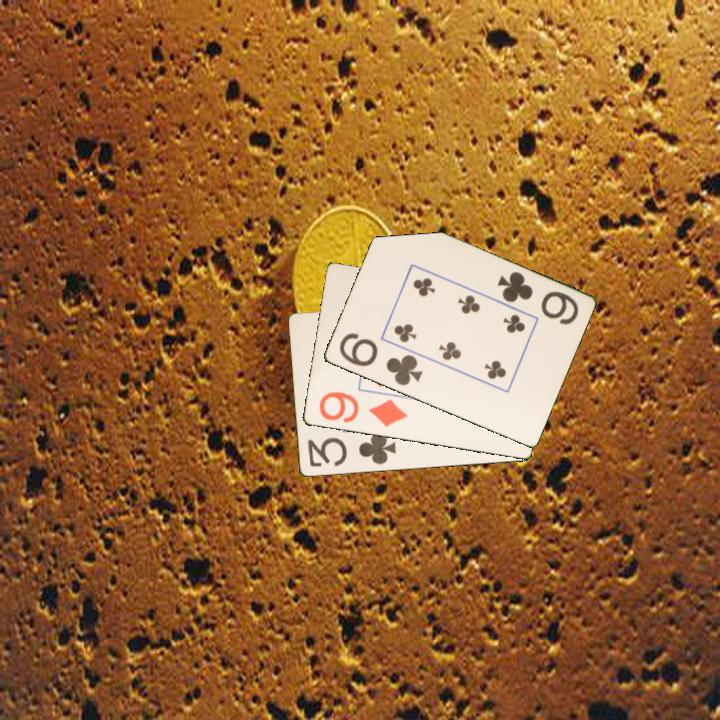3c: (304, 429, 398, 470)
6c: (335, 329, 425, 389), (493, 268, 581, 328)
9d: (315, 388, 410, 430)
